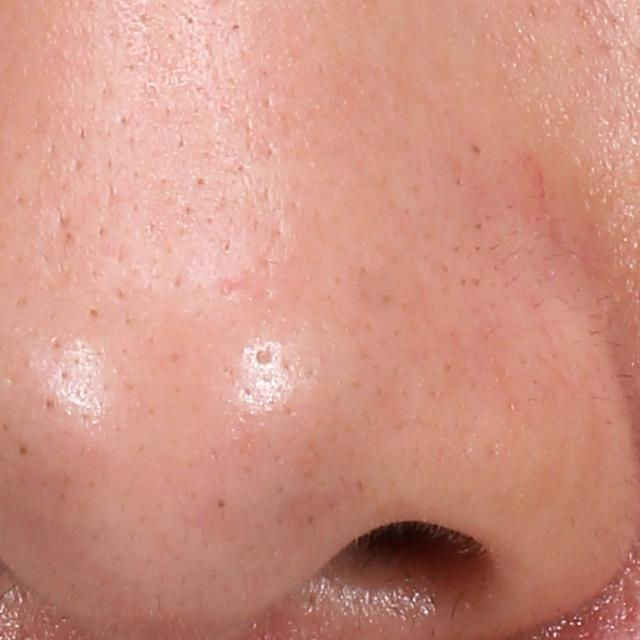comedo: (83, 302, 102, 322)
